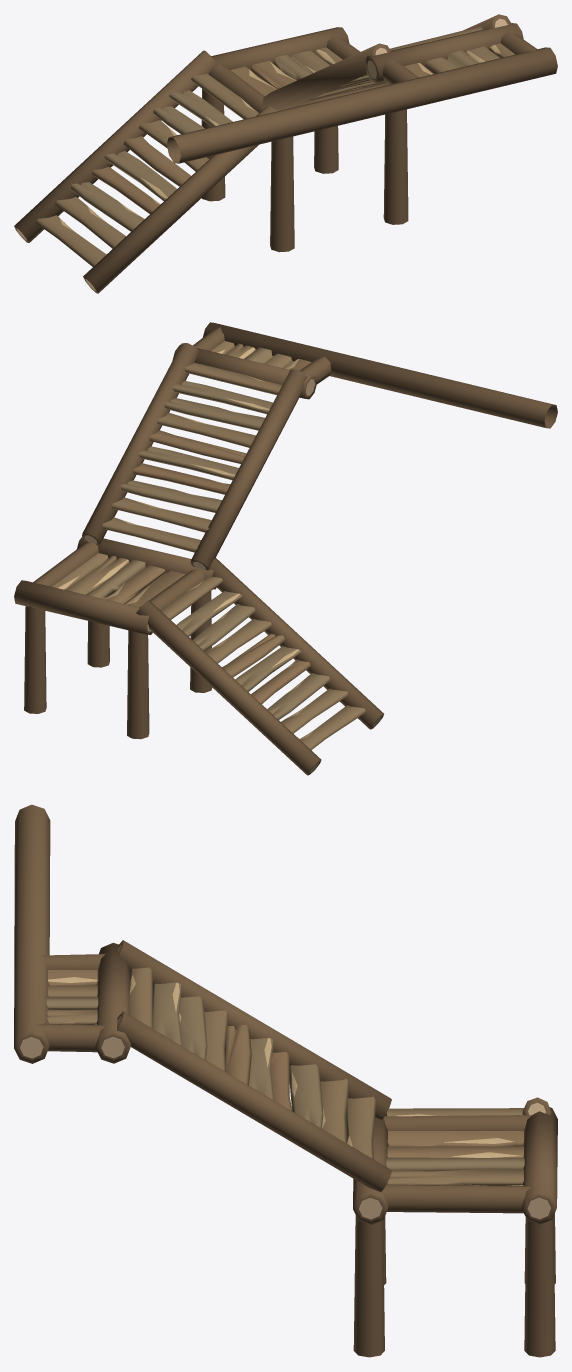
The model's file is rpgpp_ag_stairs_interior_02b_4m.fbx.
The picture shows the model from 3 angles, top to bottom: view 1: azimuth 30°, elevation 25°; view 2: azimuth 150°, elevation 25°; view 3: azimuth 270°, elevation 25°; orthographic projection. The views are drawn at different scales.
Visible parts, largest first — view 1: rpgpp_ag_stairs_interior_02b_4m; view 2: rpgpp_ag_stairs_interior_02b_4m; view 3: rpgpp_ag_stairs_interior_02b_4m.
Part boxes in pixels (x1,y1,x2,y2): rpgpp_ag_stairs_interior_02b_4m: [14, 14, 557, 293]; rpgpp_ag_stairs_interior_02b_4m: [14, 322, 557, 775]; rpgpp_ag_stairs_interior_02b_4m: [14, 804, 557, 1357].
Size of the model in its own units: 6.01 by 4.22 by 6.13.
